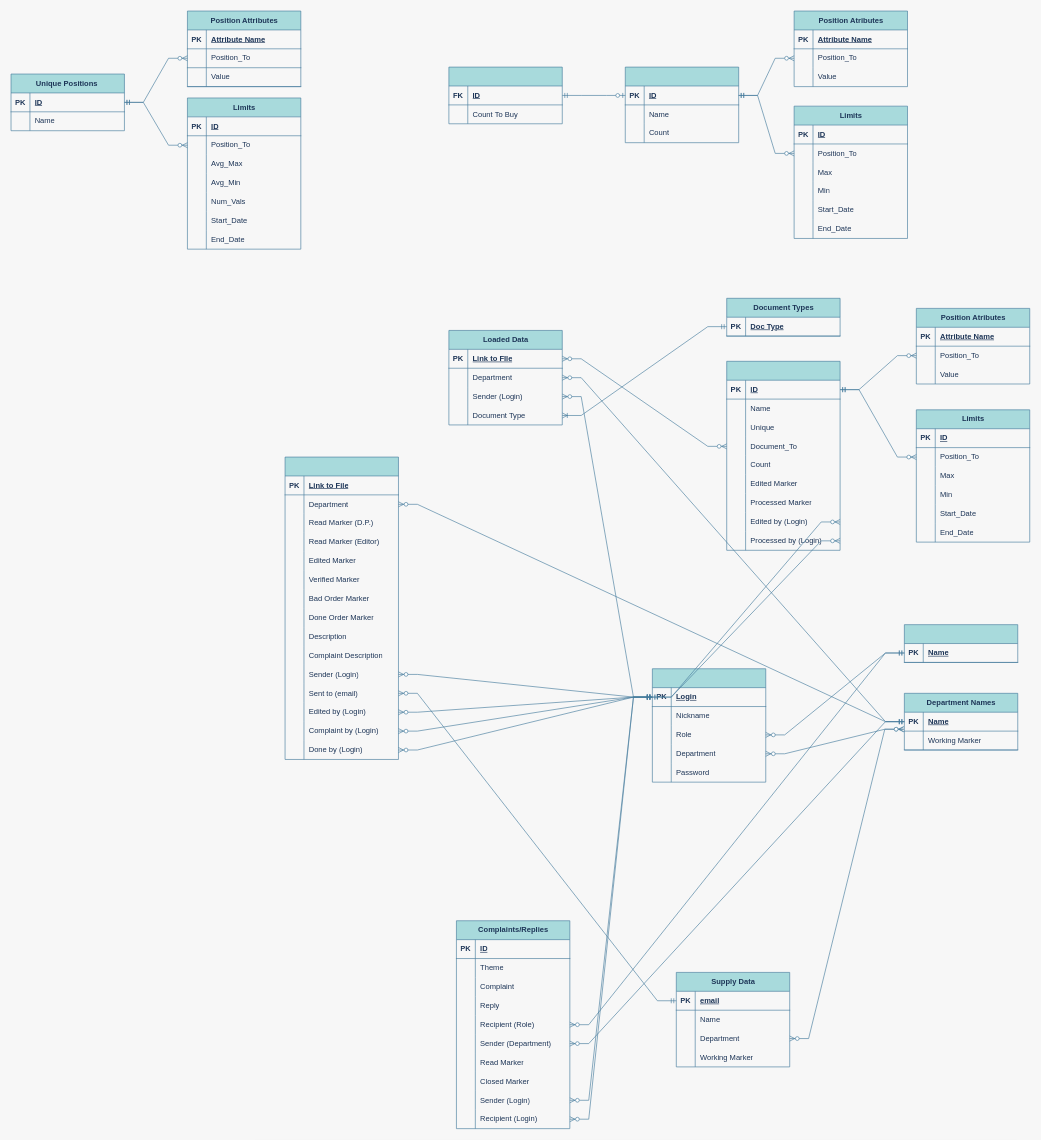
The diagram is 1041 pixels wide and 1140 high, and some of its shapes have lost their labels. The box of each missing label's shape, as (x1, y1, x2, y2) in pixels:
Current Positions: (625, 66, 739, 143)
Orders: (284, 456, 398, 759)
Positions Data: (726, 361, 840, 550)
Positions To Buy: (448, 66, 562, 124)
Roles: (904, 624, 1018, 662)
Users: (652, 668, 766, 782)
